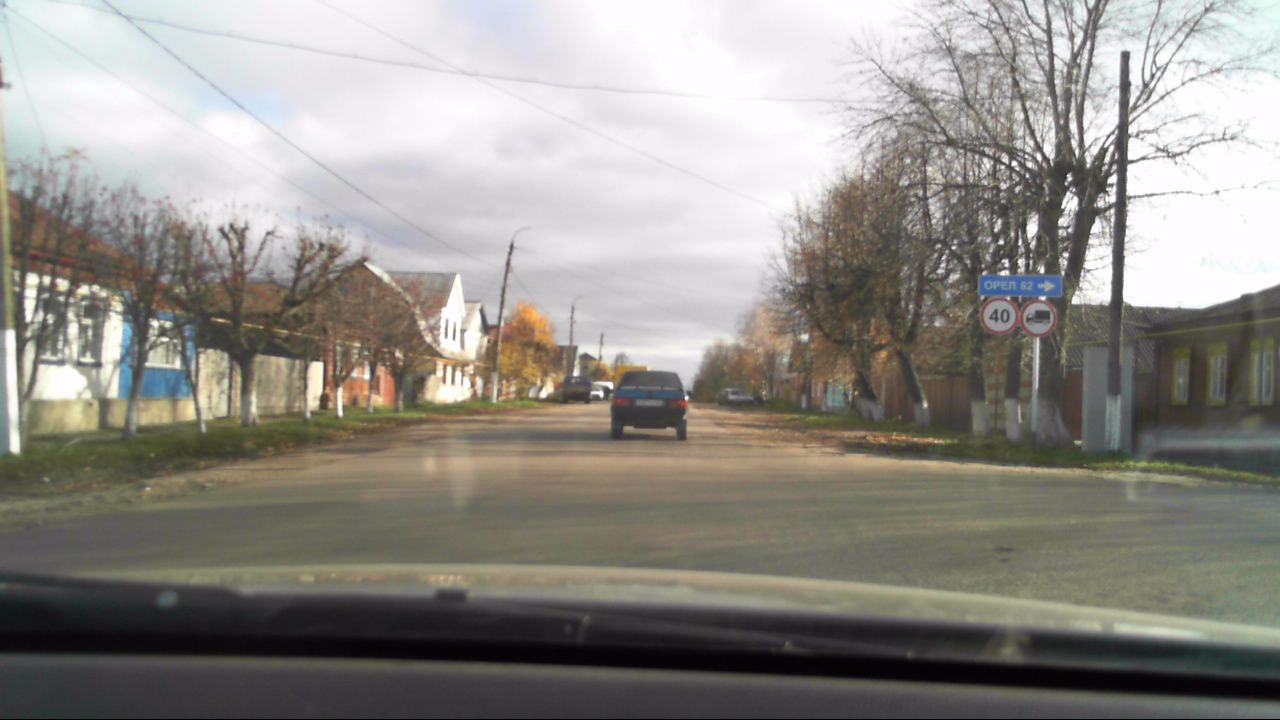speed_warning_40: (980, 299, 1017, 334)
